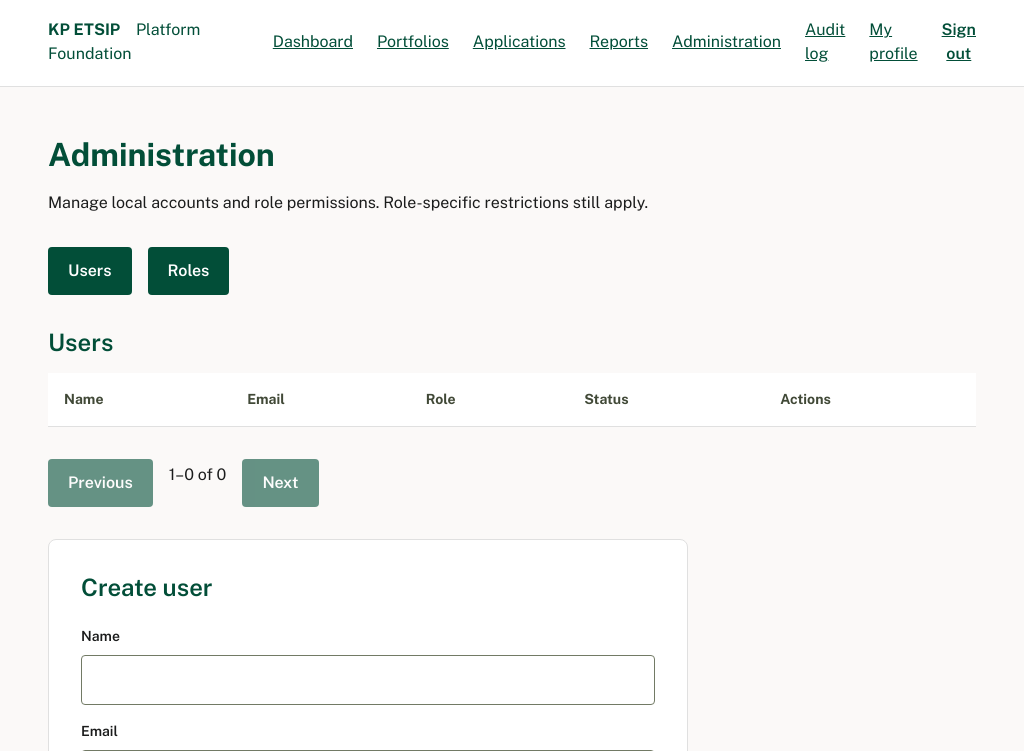
Scenario: administration and audit › edits role permissions
The image size is (1024, 751).
Expected: the heading "Users" is shown, [48, 328, 113, 356]
What coordinates should you click on to do the following:
click the button "Roles"
I would click on:
 (188, 271)
Its box is [148, 247, 229, 295].
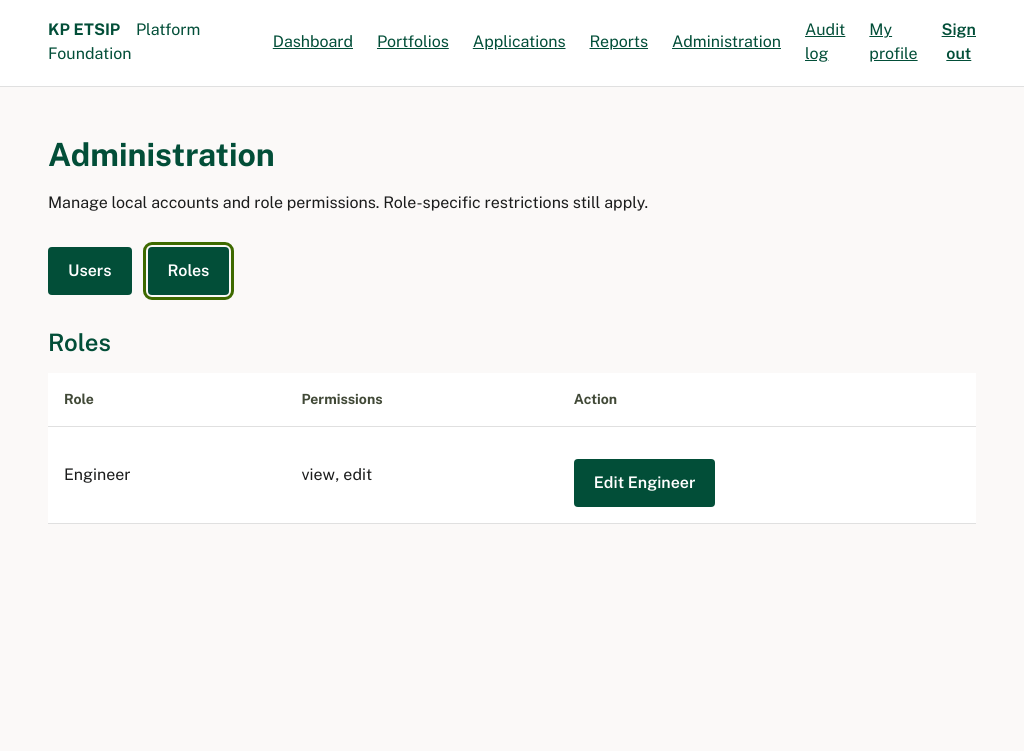
What coordinates should you click on to do the following:
click the button "Edit Engineer"
I would click on:
 (645, 483)
Its box is [574, 459, 716, 507].
(page scrolled)
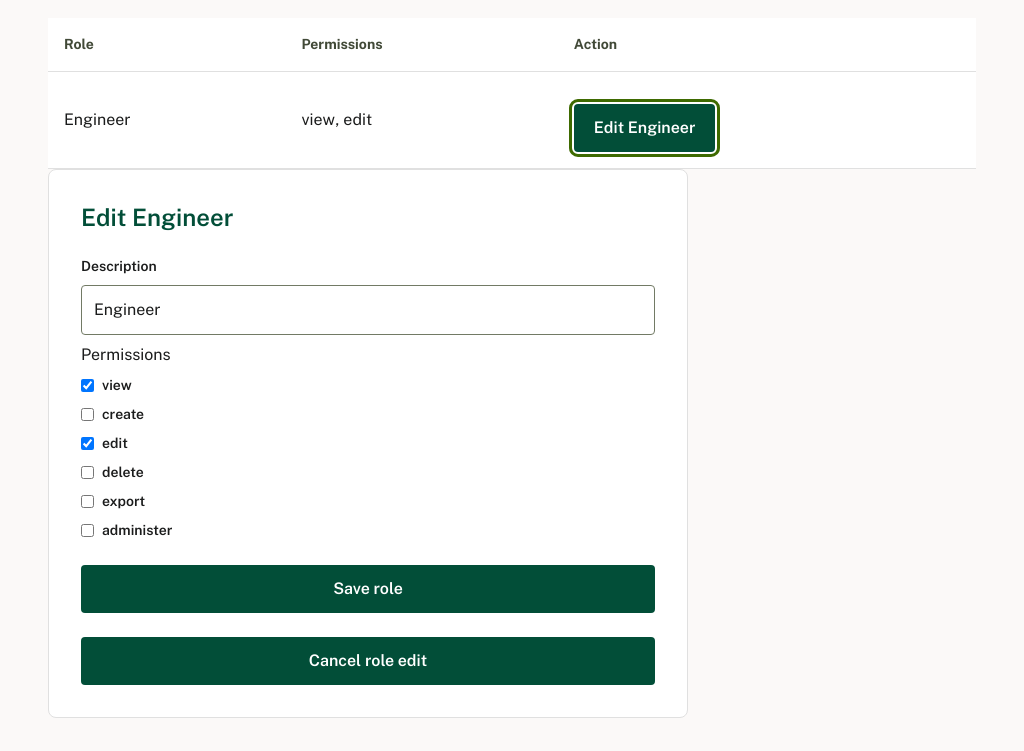
What coordinates should you click on to do the following:
click the checkbox labelled "edit"
I would click on:
 (88, 444)
Its box is [81, 437, 94, 450].
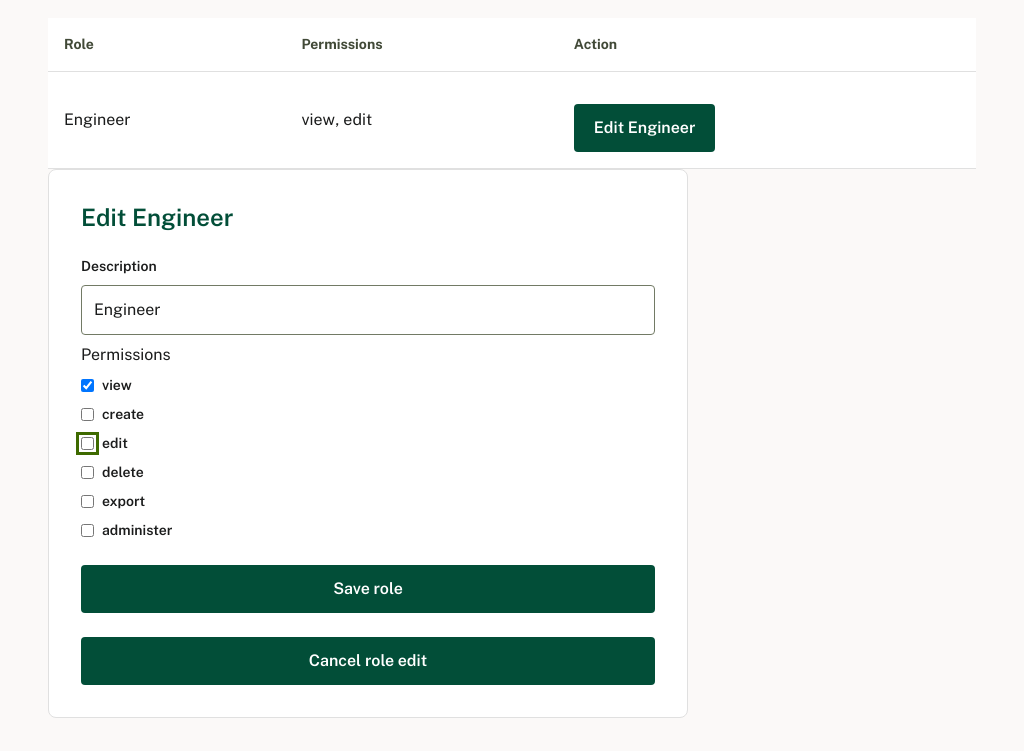
What coordinates should you click on to do the following:
click the button "Save role"
I would click on:
 (368, 589)
Its box is [81, 565, 655, 613].
(page scrolled)
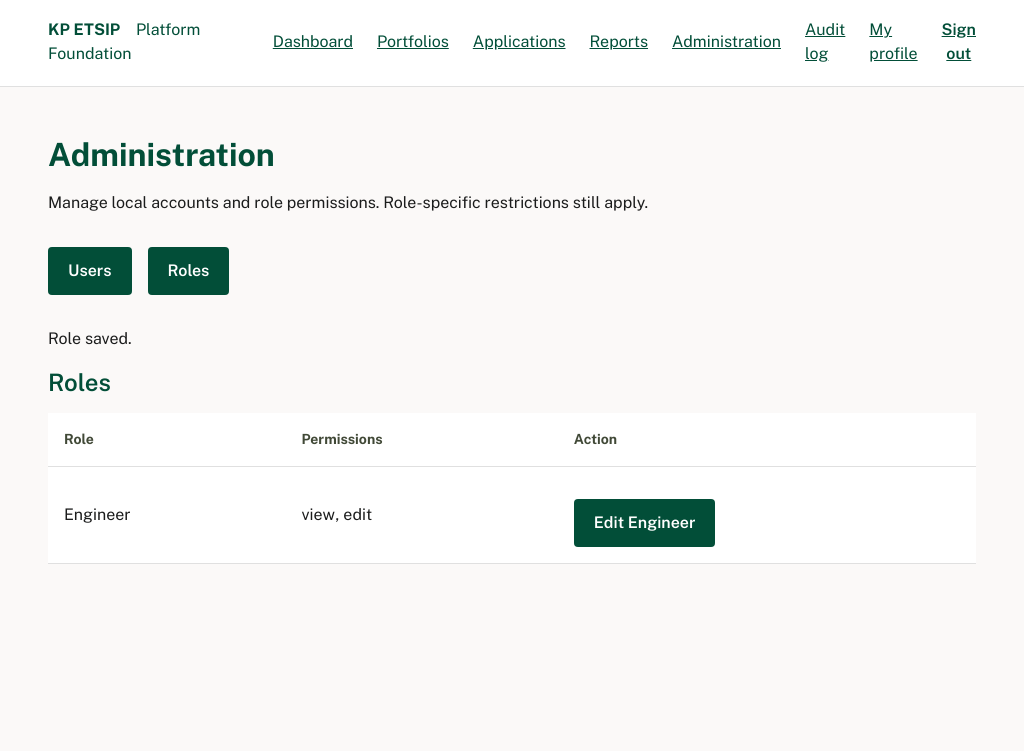
Result: the text "Role saved." is shown at [48, 329, 132, 348]
